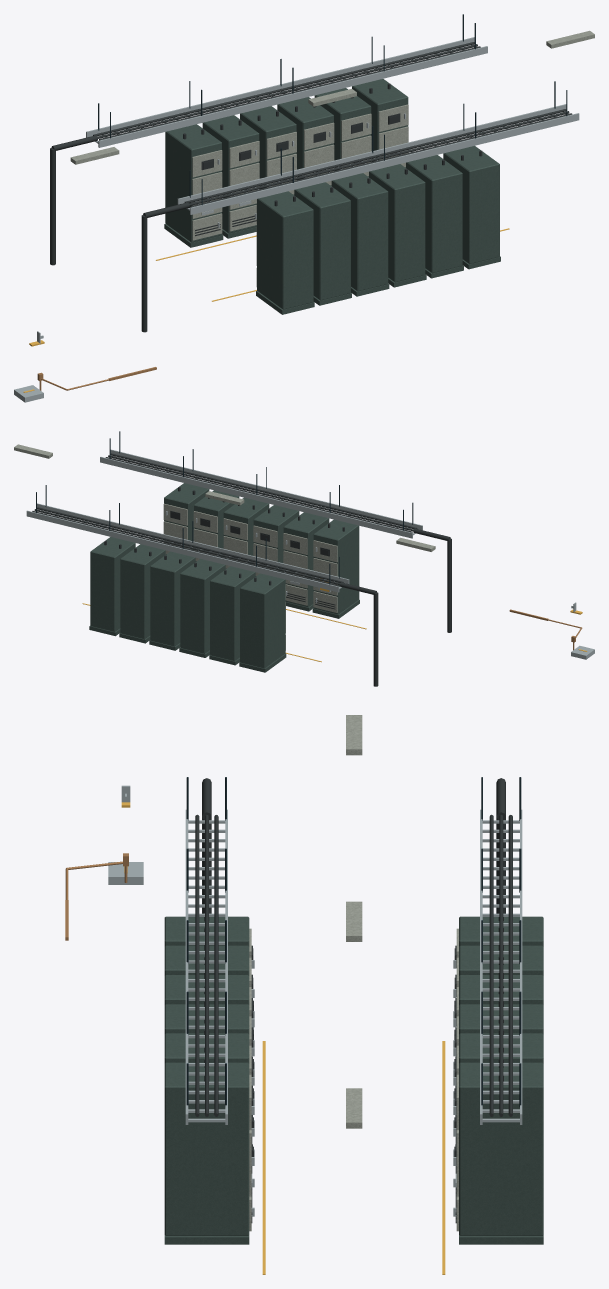
The model's file is mine-distribution-equipment.glb.
3 views of the same model, one above another, from view 1: azimuth 30°, elevation 25°; view 2: azimuth 150°, elevation 25°; view 3: azimuth 270°, elevation 25° (orthographic). The views are drawn at different scales.
Parts seen in each view (by area): view 1: distribution-cable-trays__Power_trim, distribution-cable-trays__Power_dark, power-cabinet-lv-01__Power_machine, power-cabinet-lv-03__Power_machine, power-cabinet-lv-06__Power_machine, power-cabinet-lv-02__Power_machine, power-cabinet-lv-04__Power_machine, power-cabinet-lv-05__Power_machine, power-cabinet-mv-01__Power_machine, power-cabinet-mv-02__Power_machine, power-cabinet-mv-01__Power_wall, power-cabinet-mv-02__Power_wall (+10 smaller); view 2: distribution-cable-trays__Power_trim, distribution-cable-trays__Power_dark, power-cabinet-mv-01__Power_machine, power-cabinet-mv-05__Power_machine, power-cabinet-mv-06__Power_machine, power-cabinet-mv-04__Power_machine, power-cabinet-mv-02__Power_machine, power-cabinet-mv-03__Power_machine, power-cabinet-lv-01__Power_machine, power-cabinet-lv-02__Power_machine, power-cabinet-lv-01__Power_wall, power-cabinet-lv-02__Power_wall (+10 smaller); view 3: power-cabinet-lv-06__Power_machine, power-cabinet-mv-06__Power_machine, distribution-cable-trays__Power_dark, distribution-cable-trays__Power_trim, distribution-cable-trays__Power_steel, distribution-cable-trays__Power_wall, power-cabinet-lv-05__Power_machine, power-cabinet-lv-03__Power_machine, power-cabinet-lv-02__Power_machine, power-cabinet-lv-04__Power_machine, power-cabinet-lv-01__Power_machine, power-cabinet-mv-05__Power_machine (+6 smaller).
Part boxes in pixels (x1=…): distribution-cable-trays__Power_trim: x1=86, y1=37, x2=579, y2=214; distribution-cable-trays__Power_dark: x1=50, y1=42, x2=572, y2=332; power-cabinet-lv-01__Power_machine: x1=256, y1=191, x2=314, y2=314; power-cabinet-lv-03__Power_machine: x1=331, y1=173, x2=389, y2=296; power-cabinet-lv-06__Power_machine: x1=443, y1=146, x2=500, y2=269; power-cabinet-lv-02__Power_machine: x1=294, y1=182, x2=351, y2=305; power-cabinet-lv-04__Power_machine: x1=369, y1=164, x2=426, y2=287; power-cabinet-lv-05__Power_machine: x1=406, y1=155, x2=463, y2=278; power-cabinet-mv-01__Power_machine: x1=164, y1=124, x2=223, y2=247; power-cabinet-mv-02__Power_machine: x1=202, y1=115, x2=259, y2=238; power-cabinet-mv-01__Power_wall: x1=192, y1=150, x2=222, y2=240; power-cabinet-mv-02__Power_wall: x1=229, y1=141, x2=259, y2=231; distribution-cable-trays__Power_trim: x1=26, y1=449, x2=422, y2=592; distribution-cable-trays__Power_dark: x1=32, y1=453, x2=451, y2=686; power-cabinet-mv-01__Power_machine: x1=239, y1=573, x2=286, y2=672; power-cabinet-mv-05__Power_machine: x1=119, y1=544, x2=165, y2=643; power-cabinet-mv-06__Power_machine: x1=89, y1=537, x2=135, y2=636; power-cabinet-mv-04__Power_machine: x1=149, y1=551, x2=195, y2=650; power-cabinet-mv-02__Power_machine: x1=209, y1=566, x2=255, y2=665; power-cabinet-mv-03__Power_machine: x1=179, y1=559, x2=225, y2=657; power-cabinet-lv-01__Power_machine: x1=312, y1=519, x2=359, y2=618; power-cabinet-lv-02__Power_machine: x1=283, y1=512, x2=329, y2=611; power-cabinet-lv-01__Power_wall: x1=313, y1=540, x2=337, y2=612; power-cabinet-lv-02__Power_wall: x1=283, y1=533, x2=307, y2=605; power-cabinet-lv-06__Power_machine: x1=164, y1=1062, x2=249, y2=1244; power-cabinet-mv-06__Power_machine: x1=459, y1=1062, x2=543, y2=1244; distribution-cable-trays__Power_dark: x1=195, y1=778, x2=512, y2=1116; distribution-cable-trays__Power_trim: x1=185, y1=809, x2=522, y2=1124; distribution-cable-trays__Power_steel: x1=186, y1=777, x2=521, y2=1107; distribution-cable-trays__Power_wall: x1=346, y1=715, x2=362, y2=1128; power-cabinet-lv-05__Power_machine: x1=164, y1=1033, x2=249, y2=1063; power-cabinet-lv-03__Power_machine: x1=164, y1=975, x2=249, y2=1004; power-cabinet-lv-02__Power_machine: x1=164, y1=945, x2=249, y2=975; power-cabinet-lv-04__Power_machine: x1=164, y1=1004, x2=249, y2=1034; power-cabinet-lv-01__Power_machine: x1=164, y1=916, x2=249, y2=946; power-cabinet-mv-05__Power_machine: x1=459, y1=1033, x2=543, y2=1063.
Size of the model in its own units: 16.24 by 3.78 by 6.5.
Materials: 7 (3 with a texture image).
